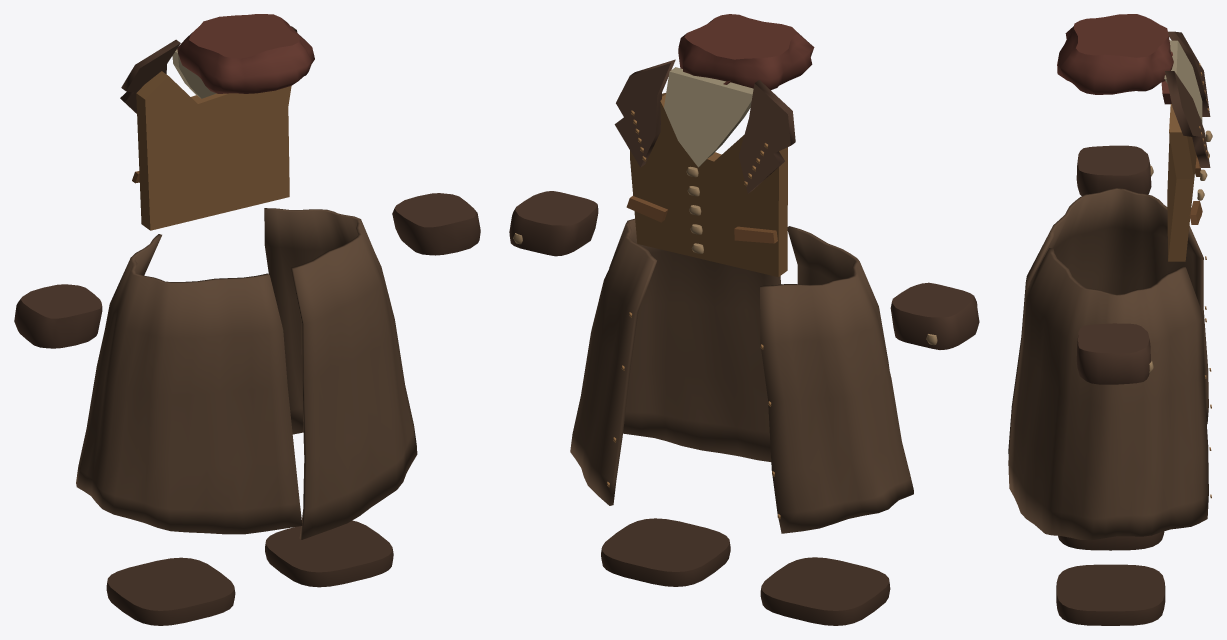
The model's file is VeteranOutfit.glb.
3 renders of one model, left to right at view 1: azimuth 30°, elevation 25°; view 2: azimuth 150°, elevation 25°; view 3: azimuth 270°, elevation 25°, orthographic. The views are drawn at different scales.
Parts seen in each view (by area): view 1: LeftCoatTail, RightCoatTail, Vest, Neckerchief, LeftBootRim, RightBootRim, LeftCuff, RightCuff, CoatLapels, LinenShirt; view 2: RightCoatTail, LeftCoatTail, Vest, Neckerchief, CoatLapels, LeftBootRim, RightBootRim, LinenShirt, LeftCuff, RightCuff, VestPockets; view 3: RightCoatTail, LeftCoatTail, Neckerchief, RightBootRim, RightCuff, Vest, LeftCuff, CoatLapels, LeftBootRim, LinenShirt, VestPockets.
Part boxes in pixels (x1,y1,x2,y2): LeftCoatTail: (76,234,302,534); RightCoatTail: (264,208,417,539); Vest: (136,71,291,230); Neckerchief: (177,14,314,93); LeftBootRim: (106,557,235,625); RightBootRim: (265,520,393,587); LeftCuff: (14,284,102,348); RightCuff: (392,193,480,255); CoatLapels: (120,26,297,113); LinenShirt: (172,49,216,98); RightCoatTail: (570,218,780,505); LeftCoatTail: (760,226,913,533); Vest: (630,93,787,277); Neckerchief: (678,14,814,89); CoatLapels: (614,59,795,193); LeftBootRim: (760,557,890,625); RightBootRim: (601,518,730,586); LinenShirt: (664,67,753,167); LeftCuff: (890,282,979,349); RightCuff: (509,191,598,256); VestPockets: (626,196,777,243); RightCoatTail: (1008,247,1208,540); LeftCoatTail: (1008,188,1208,455); Neckerchief: (1057,14,1173,94); RightBootRim: (1056,564,1165,625); RightCuff: (1076,323,1151,384); Vest: (1167,104,1196,261); LeftCuff: (1076,145,1151,195); CoatLapels: (1165,31,1210,167); LeftBootRim: (1058,531,1164,550); LinenShirt: (1164,40,1202,123); VestPockets: (1189,156,1202,224).
Size of the model in its own units: 3 by 3.47 by 1.21.
